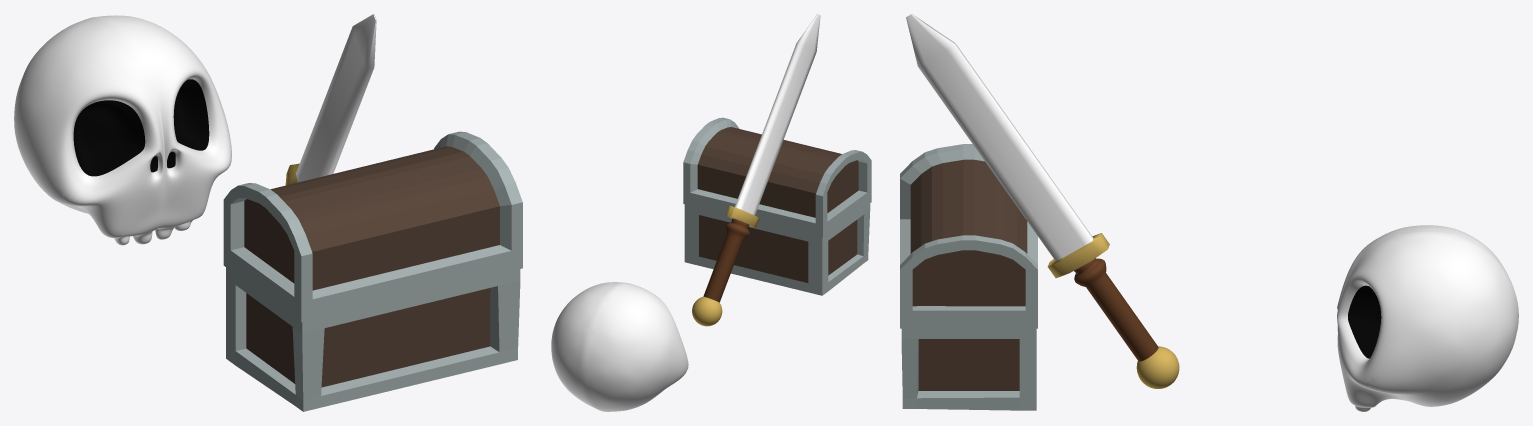
Rendered from dungeonAssets.fbx.
The picture shows the model from 3 angles, left to right: view 1: azimuth 30°, elevation 25°; view 2: azimuth 150°, elevation 25°; view 3: azimuth 270°, elevation 25°; orthographic projection. The views are drawn at different scales.
Parts seen in each view (by area): view 1: Cube.001, Icosphere, Cube, Cylinder; view 2: Icosphere, Cube.001, Cube, Cylinder; view 3: Icosphere, Cube.001, Cylinder, Cube.
Boxes of the visible parts, <box> form: Cube.001: <box>223,131,522,322</box>; Icosphere: <box>14,15,231,245</box>; Cube: <box>226,267,520,411</box>; Cylinder: <box>285,14,376,185</box>; Icosphere: <box>551,282,688,411</box>; Cube.001: <box>683,117,871,237</box>; Cube: <box>684,203,870,295</box>; Cylinder: <box>692,14,820,326</box>; Icosphere: <box>1337,225,1518,411</box>; Cube.001: <box>900,144,1037,328</box>; Cylinder: <box>906,14,1179,388</box>; Cube: <box>901,328,1036,410</box>.
Size of the model in its own units: 2077 by 3782 by 5651.
